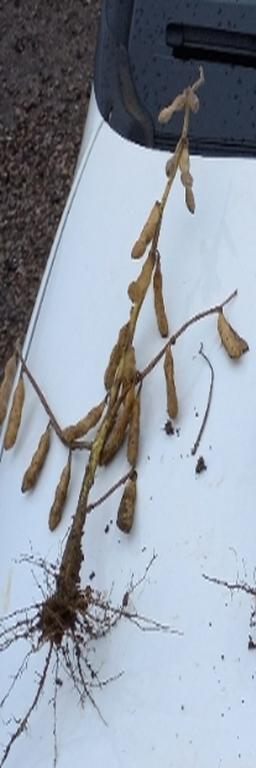pod: (22, 407, 52, 496), (127, 198, 160, 260), (48, 453, 73, 534), (161, 344, 181, 419), (152, 265, 172, 339), (5, 383, 23, 450)
soy: (1, 65, 251, 661)
